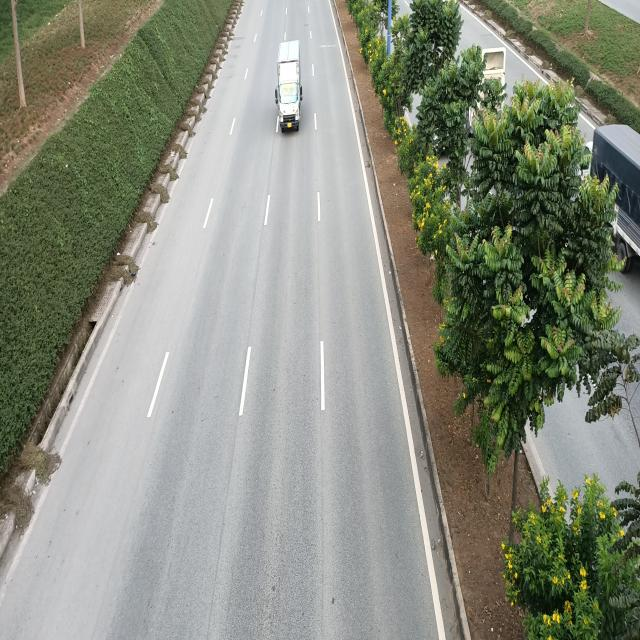truck: (276, 40, 304, 132)
